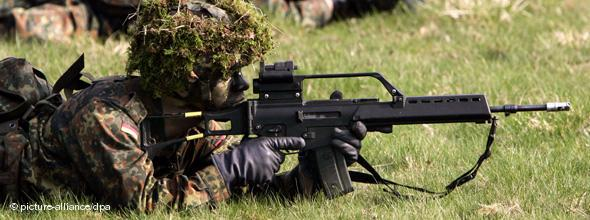Rifle: (137, 57, 568, 203)
